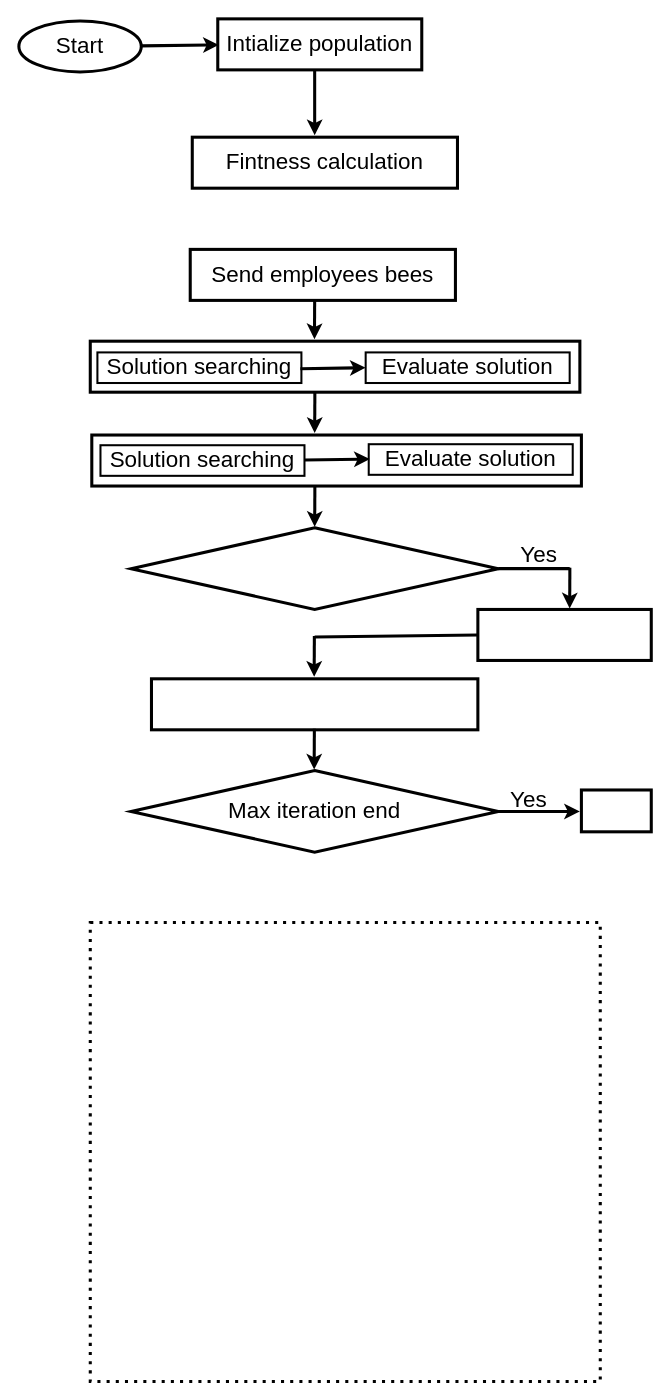
Some shapes in this 670 by 1400 pixel diagram are drawn without their labels. Here are the shapes that lost their labels. From the top down, the centre of each, then its label:
At (314,568): "Scout bee in the colony".
At (564,634): "Scout bee".
At (314,704): "Update the solutions".
At (615,810): "End".
